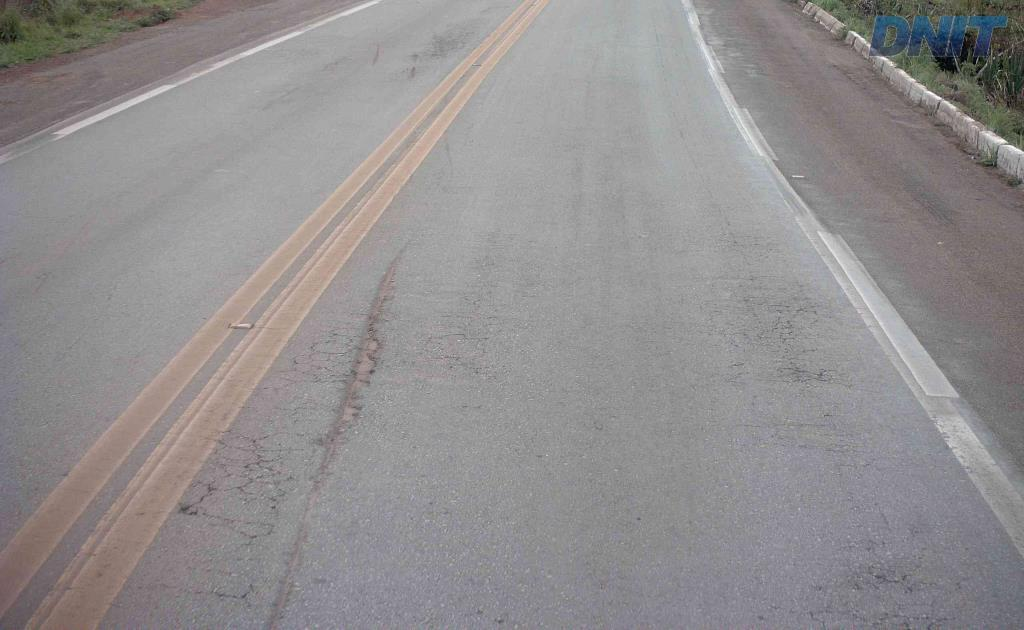crack: (353, 295, 388, 375), (776, 357, 836, 384), (177, 480, 217, 517)
pothole: (333, 264, 397, 429)
